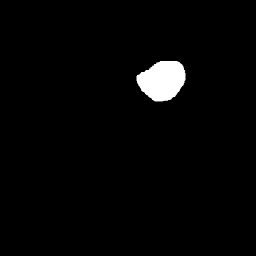mass: (139, 64, 186, 102)
